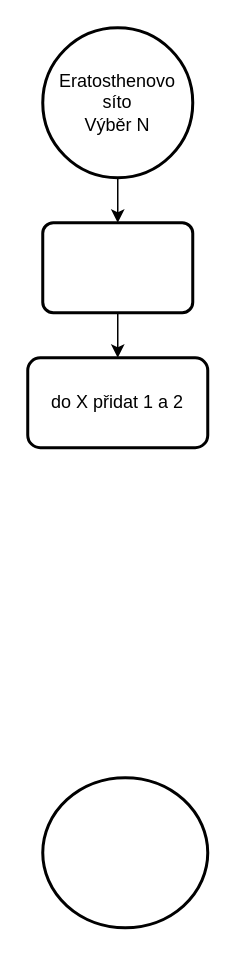
The diagram is 234 pixels wide and 954 high, and some of its shapes have lost their labels. The box of each missing label's shape, as (x1, y1, x2, y2) in pixels:
Pole A od 1- N: (40, 220, 194, 314)
Pole X všech prvočísel menších než N: (40, 776, 208, 928)
